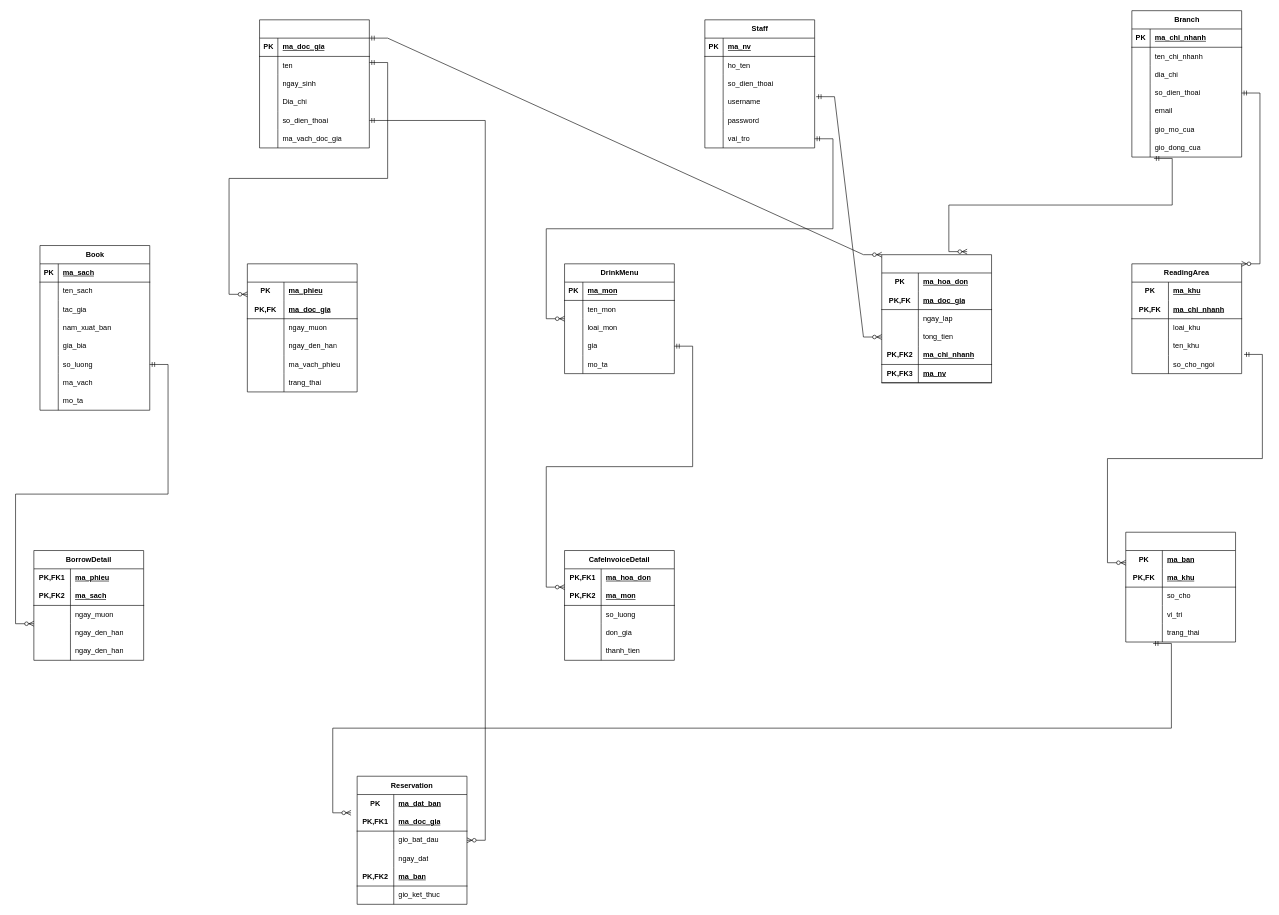
Some shapes in this 1279 by 915 pixel diagram are drawn without their labels. The shapes that lost their labels are listed below. From the top down, each one's box as (x1, y1, x2, y2) in pixels, then its label:
(259, 19, 369, 148): Reader
(247, 263, 357, 392): BorrowTicket
(881, 254, 992, 383): CafeInvoice
(1125, 532, 1236, 642): Table
